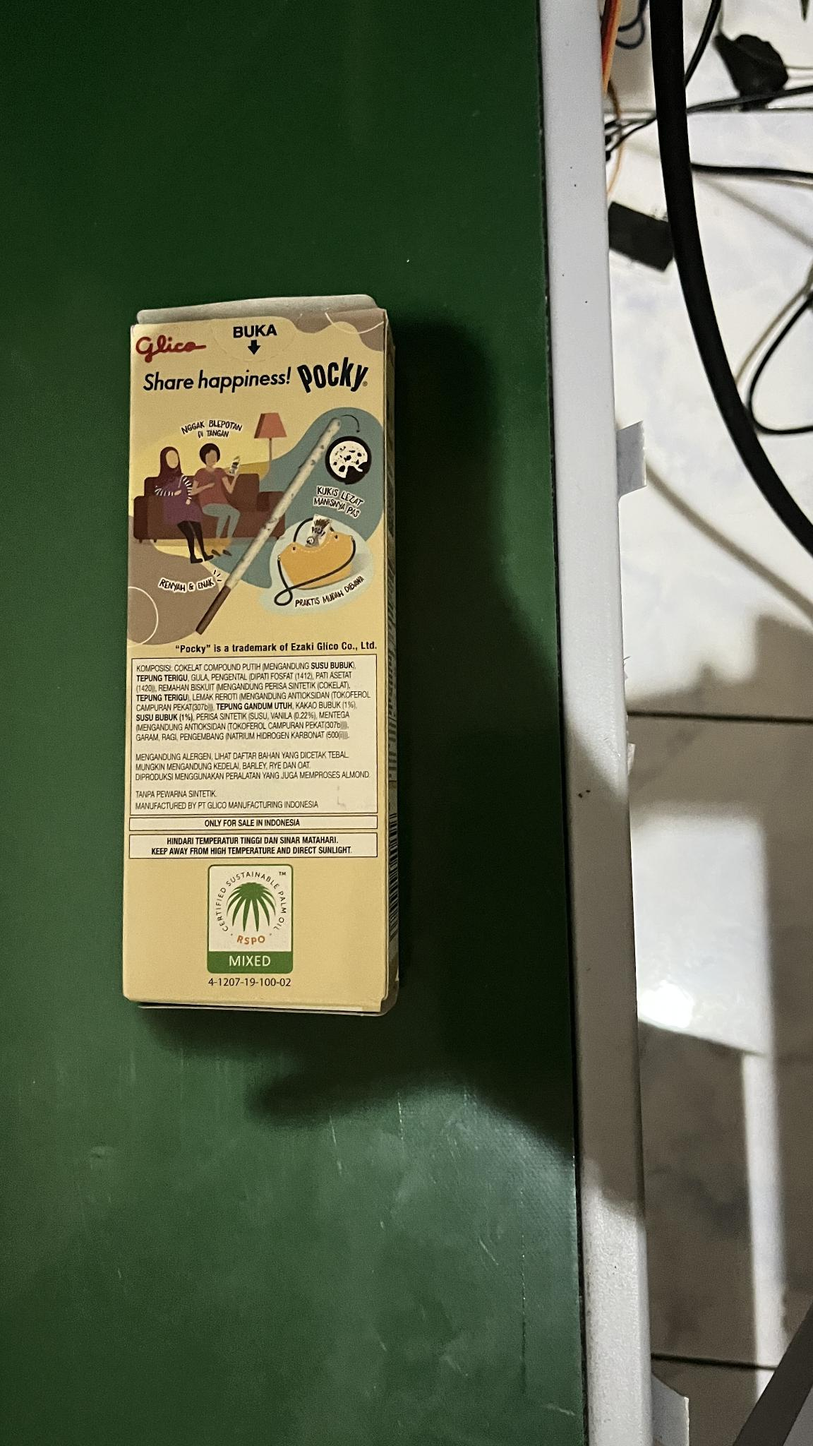Kertas: (129, 319, 398, 1011)
